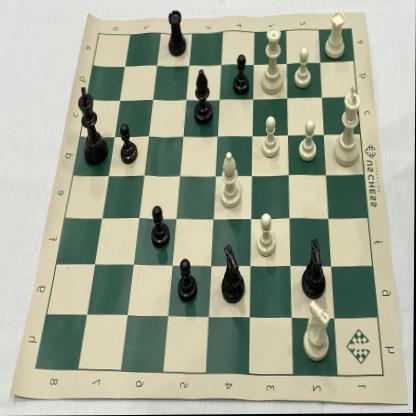black-bishop: (191, 64, 216, 128)
black-king: (76, 80, 110, 167)
black-knight: (300, 235, 332, 301), (219, 242, 248, 307)
black-pawn: (176, 254, 202, 306), (149, 202, 173, 253), (119, 119, 141, 167), (230, 49, 251, 98)
black-rook: (164, 5, 190, 60)
white-bishop: (219, 150, 245, 212)
white-king: (331, 84, 362, 170)
white-knight: (301, 297, 334, 365)
white-pawn: (255, 209, 279, 261), (260, 112, 283, 162), (293, 45, 314, 93), (298, 117, 318, 165)
white-queen: (259, 23, 285, 97)
white-rook: (321, 8, 349, 65)
